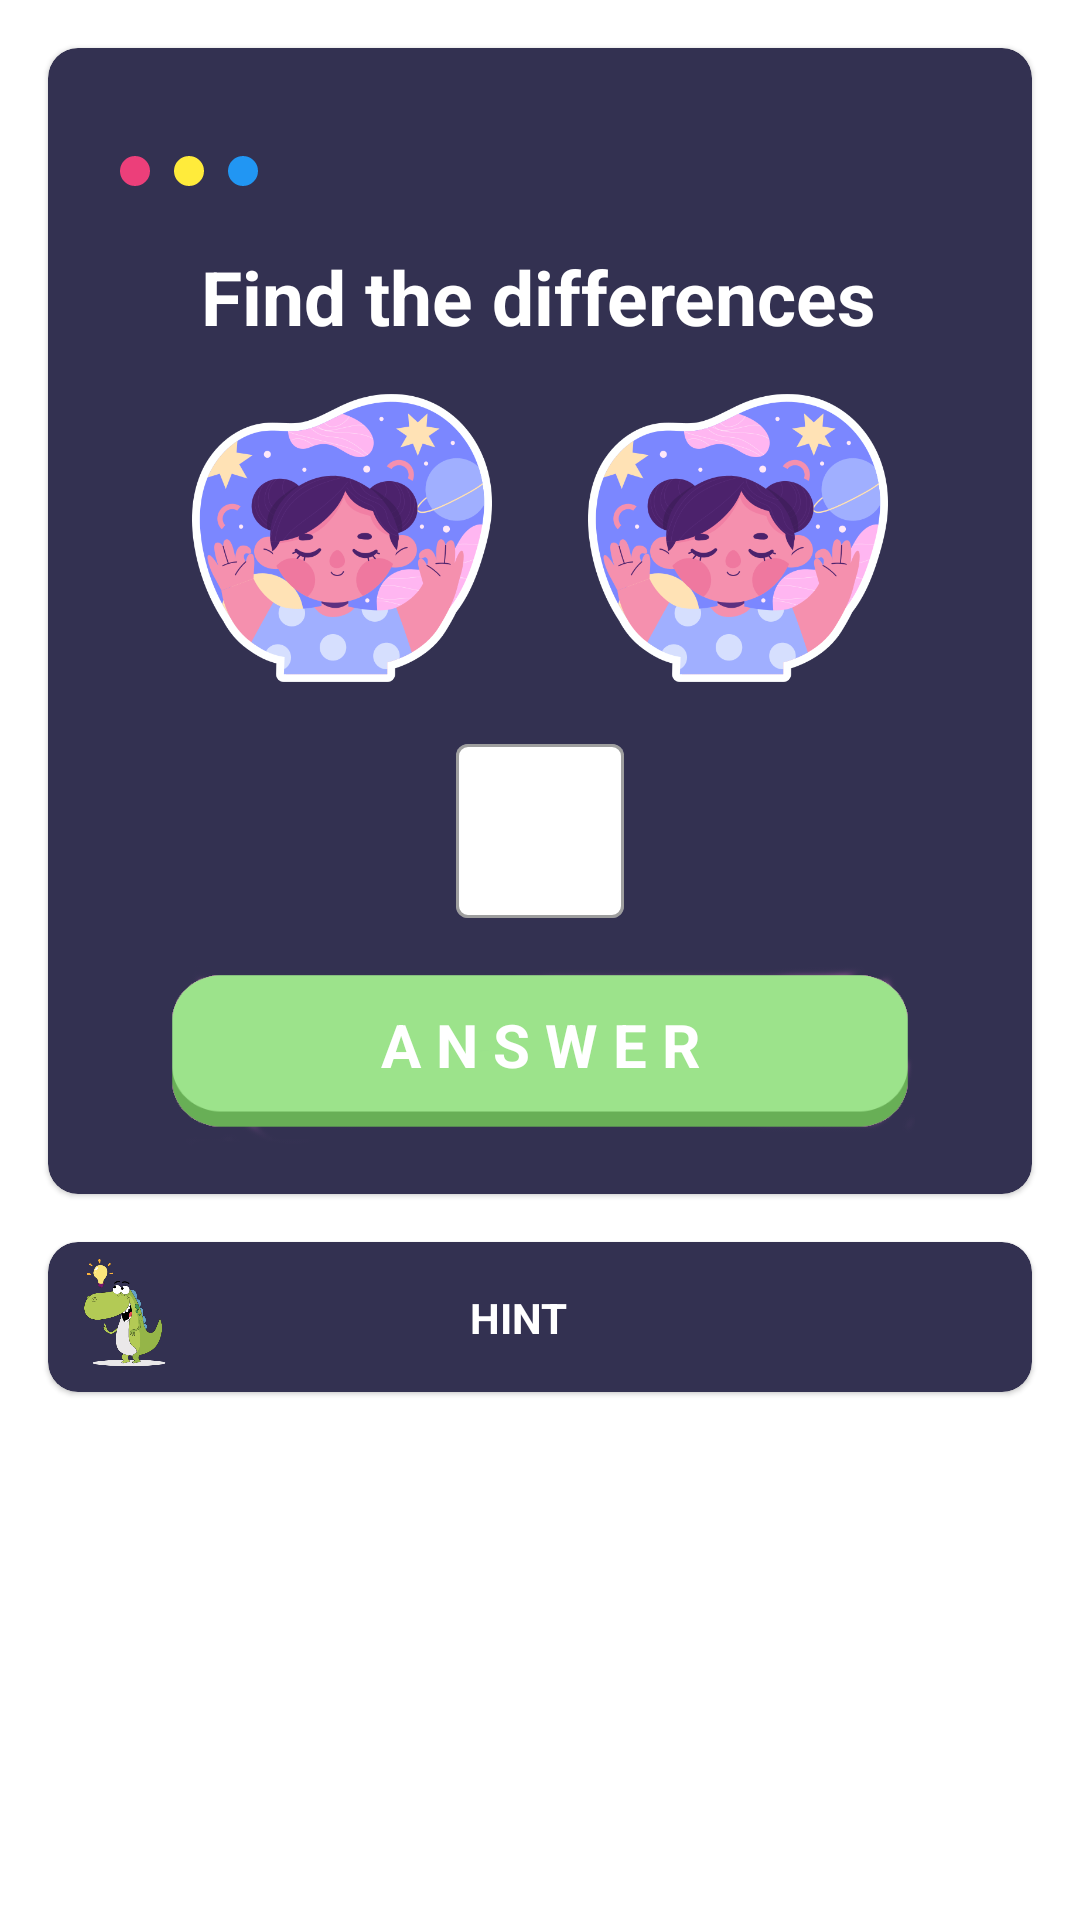

Screen size 1080 x 1920. Icon name, then its box in pixels as (left=x1, top=y1, right=x2, bottom=y2):
idea: (left=48, top=1242, right=198, bottom=1392)
woman: (left=192, top=394, right=492, bottom=682), (left=588, top=394, right=888, bottom=682)
